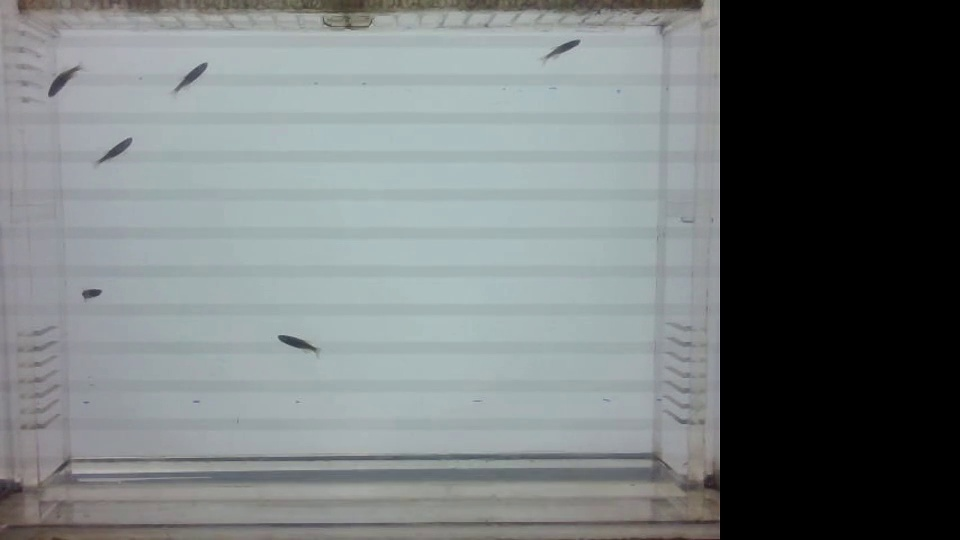fish: (38, 56, 84, 108), (268, 324, 329, 362), (166, 52, 209, 98), (89, 132, 132, 170), (530, 37, 588, 64), (74, 280, 104, 304)
